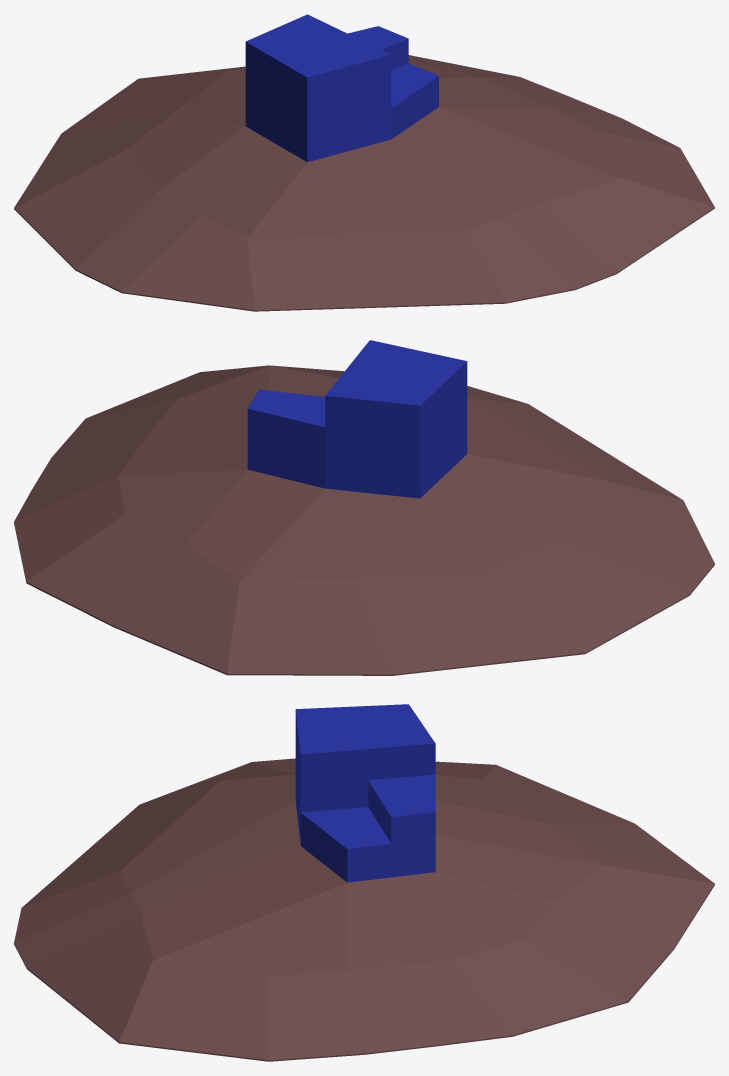
Rendered from island2.fbx.
The picture shows the model from 3 angles, top to bottom: view 1: azimuth 30°, elevation 25°; view 2: azimuth 150°, elevation 25°; view 3: azimuth 270°, elevation 25°; orthographic projection. The views are drawn at different scales.
Parts seen in each view (by area): view 1: Cube; view 2: Cube; view 3: Cube.
Part boxes in pixels (x1,y1,x2,y2): Cube: (14, 14, 714, 311); Cube: (14, 340, 714, 675); Cube: (14, 704, 714, 1061).
Bounding box in the file's own units: 16335 × 4067 × 15891.
